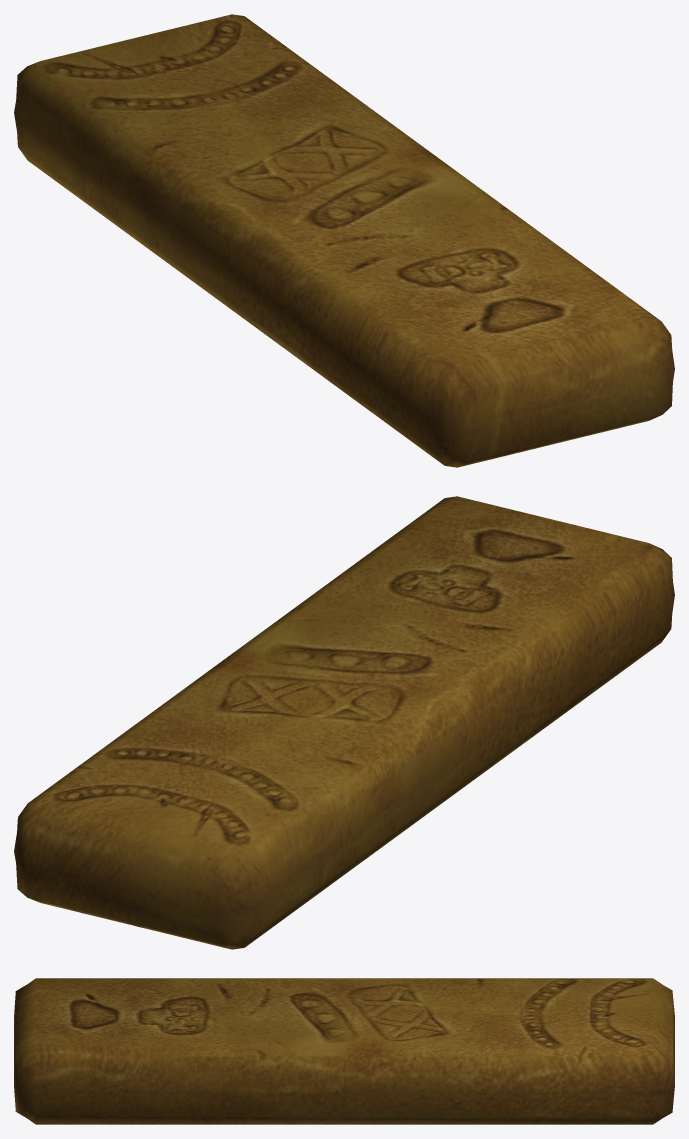
File: gold_bar_exp5.FBX
3 renders of one model, top to bottom at view 1: azimuth 30°, elevation 25°; view 2: azimuth 150°, elevation 25°; view 3: azimuth 270°, elevation 25°, orthographic. The views are drawn at different scales.
Parts seen in each view (by area): view 1: gold_bar_exp5; view 2: gold_bar_exp5; view 3: gold_bar_exp5.
Part boxes in pixels (bbox=[...]): gold_bar_exp5: bbox=[14, 14, 674, 467]; gold_bar_exp5: bbox=[14, 496, 674, 949]; gold_bar_exp5: bbox=[14, 978, 674, 1124].
Bounding box in the file's own units: 6.28 × 2.53 × 20.24.
